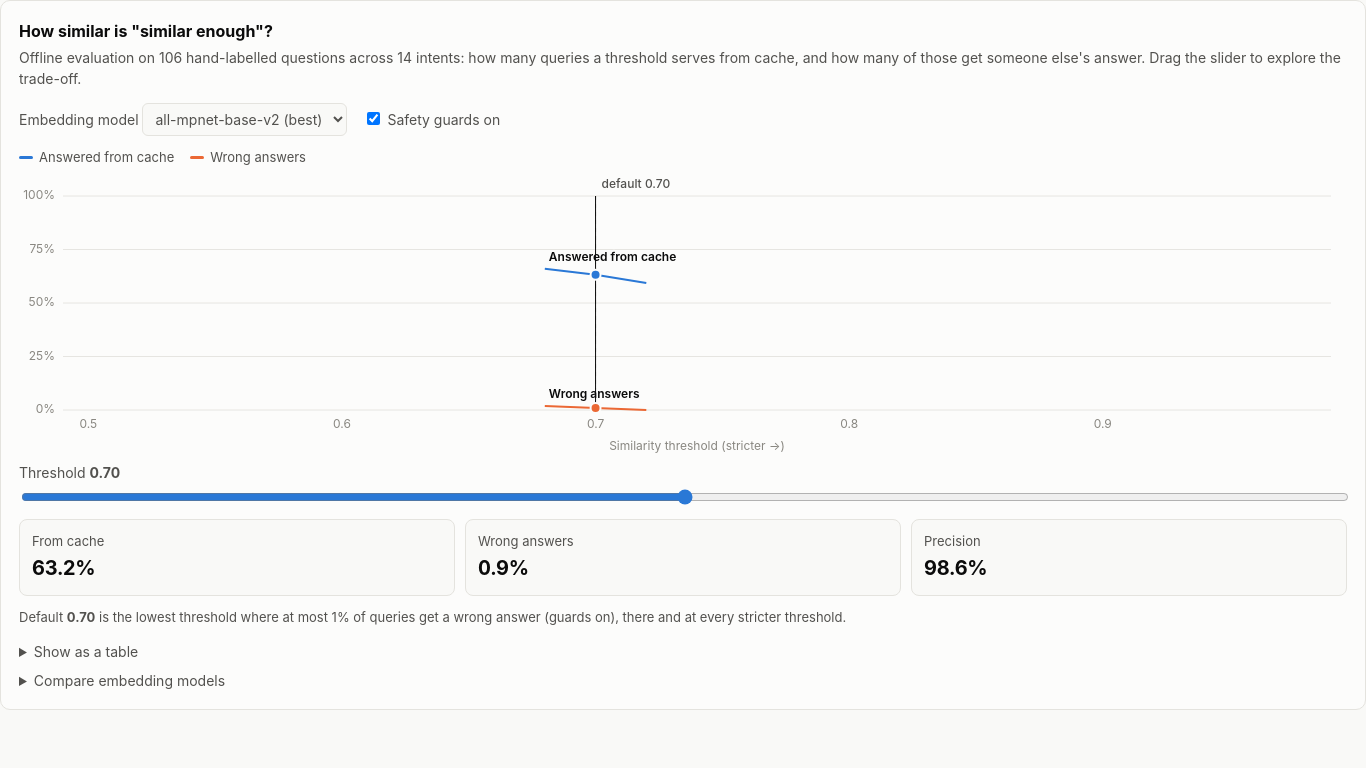
Test: ThresholdExplorer › shows the unguarded numbers when guards are switched off
Click the checkbox labelled "Safety guards on" at [374, 118], box [368, 112, 380, 125]
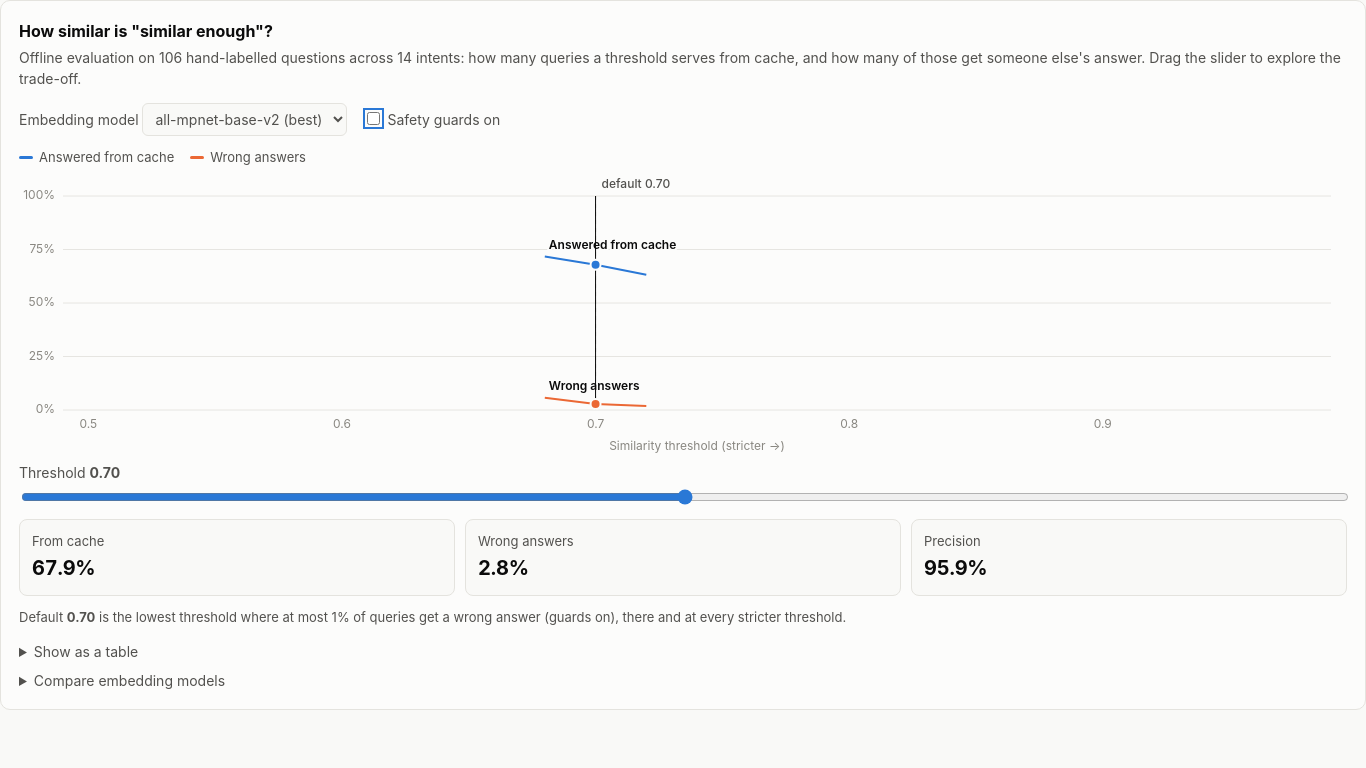
Check: the text "2.8%" is shown, box [478, 556, 529, 580]
